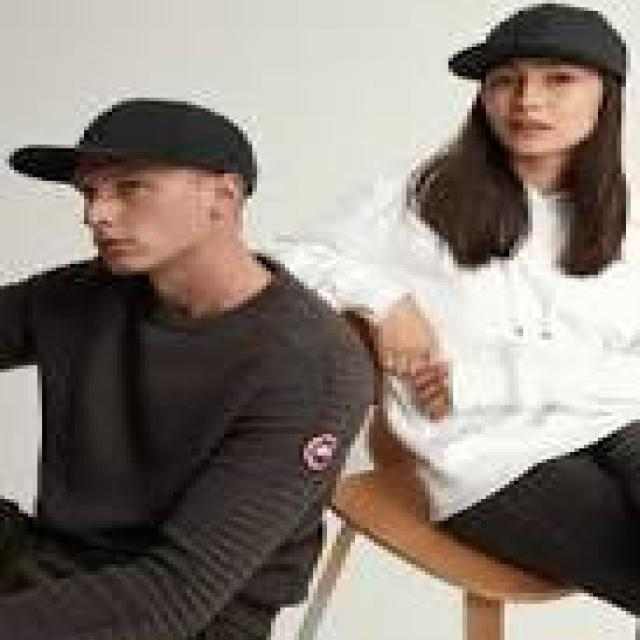3_gorra: (446, 1, 634, 80)
